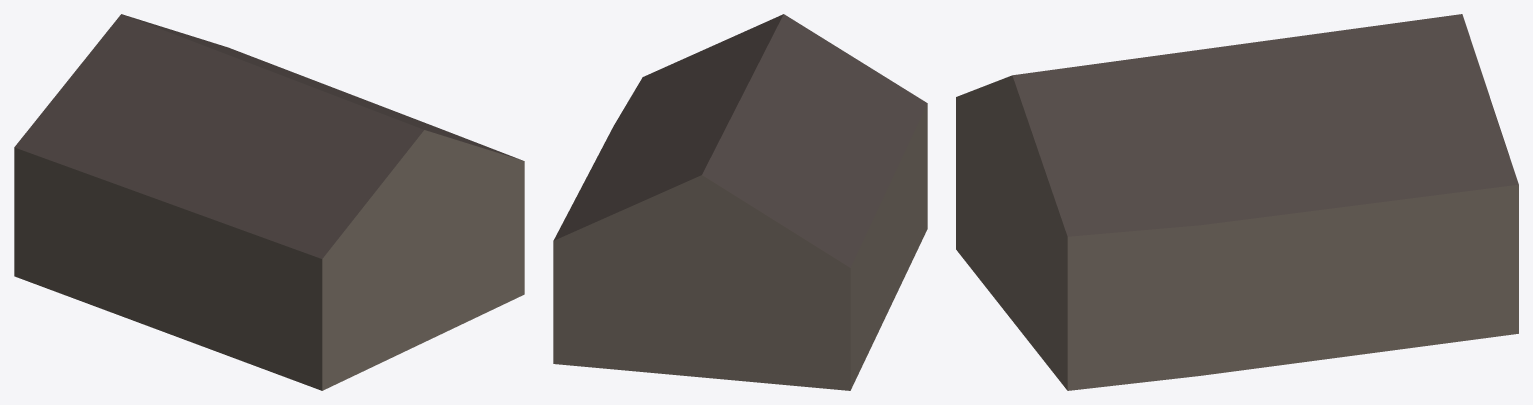
3 renders of one model, left to right at view 1: azimuth 30°, elevation 25°; view 2: azimuth 150°, elevation 25°; view 3: azimuth 270°, elevation 25°, orthographic. The views are drawn at different scales.
Visible parts, largest first — view 1: HP-w1197562473; view 2: HP-w1197562473; view 3: HP-w1197562473.
Part boxes in pixels (box(x1,y1,x2,y2)): HP-w1197562473: box(14, 14, 524, 390); HP-w1197562473: box(553, 14, 927, 390); HP-w1197562473: box(956, 14, 1518, 390).
Size of the model in its own units: 17.73 by 9.88 by 20.52.
